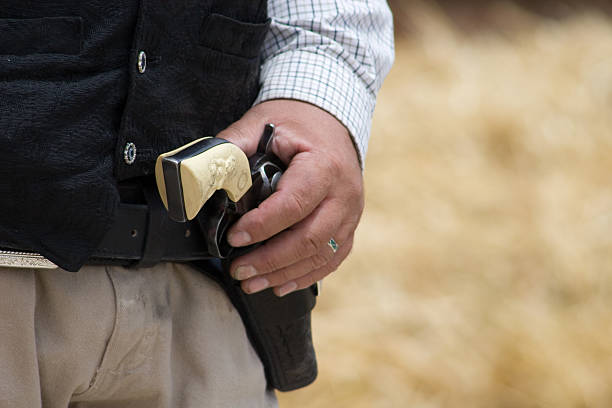gun: (155, 121, 319, 392)
